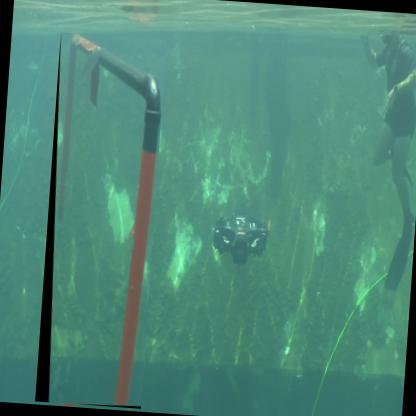gate: (36, 33, 169, 411)
